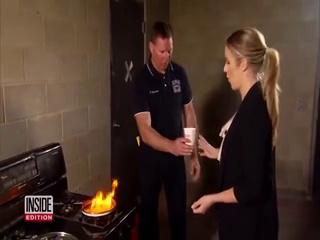Fire: (85, 176, 121, 214)
